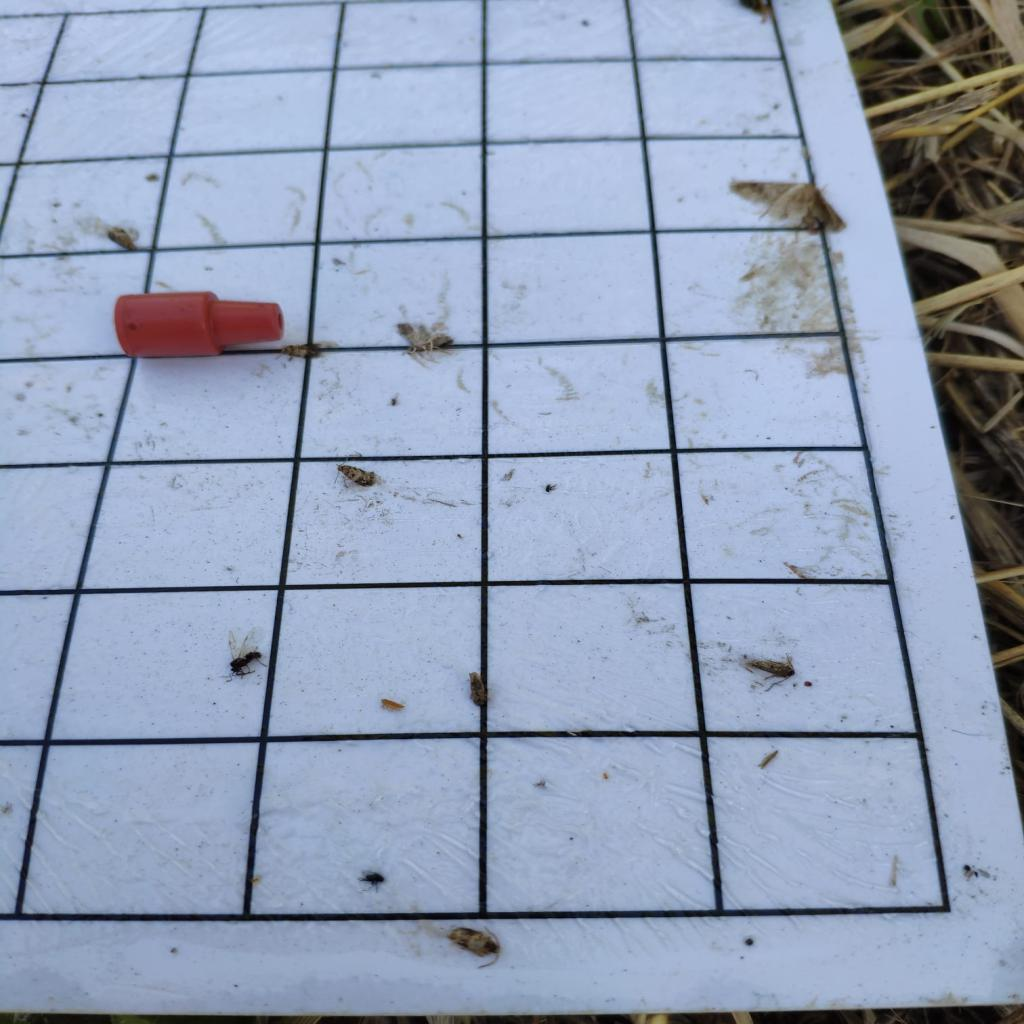grape_moth: (394, 321, 456, 365), (445, 924, 501, 970), (748, 651, 800, 695), (333, 454, 377, 490), (272, 340, 324, 363), (106, 227, 138, 253), (466, 670, 489, 706)
